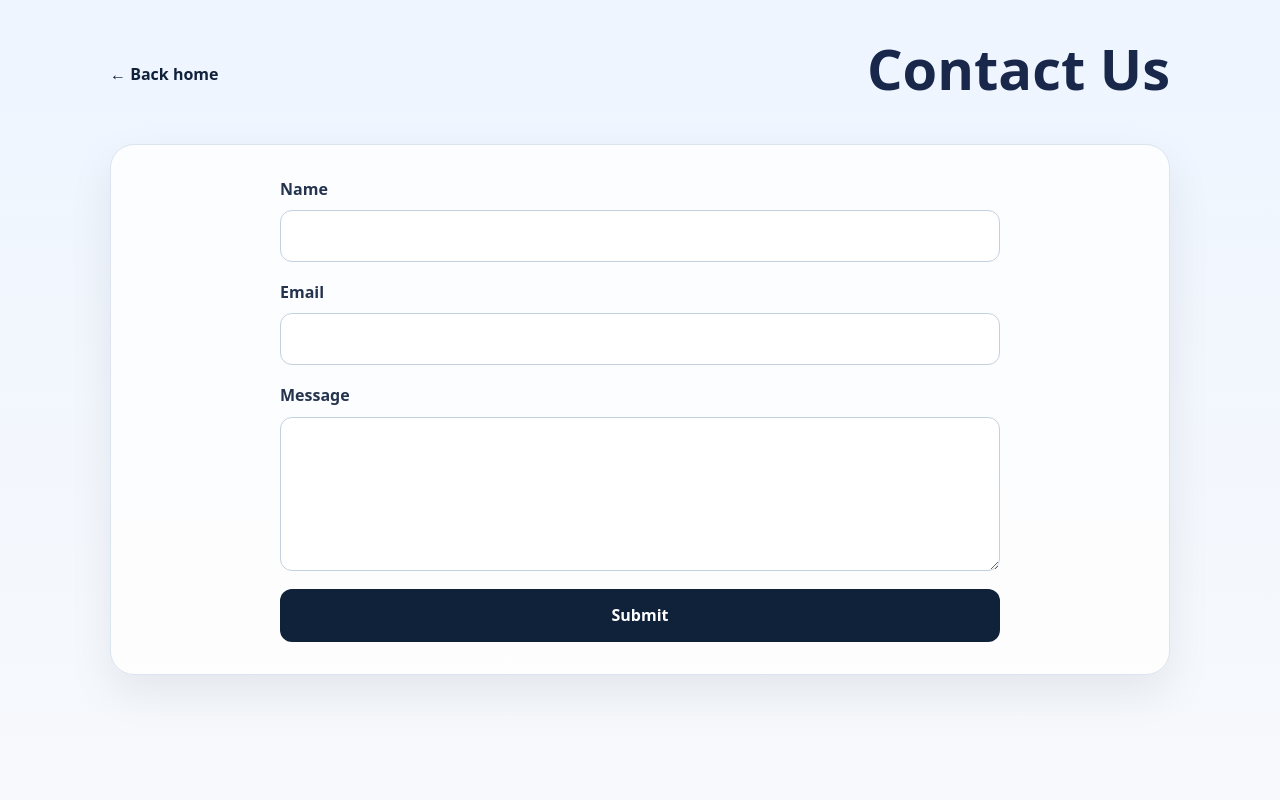
Scenario: ContactPage › handles a server validation error after the form passes local checks
In the field labelled "Name": (640, 236) [280,210,1000,262], type "Jamie Lee"
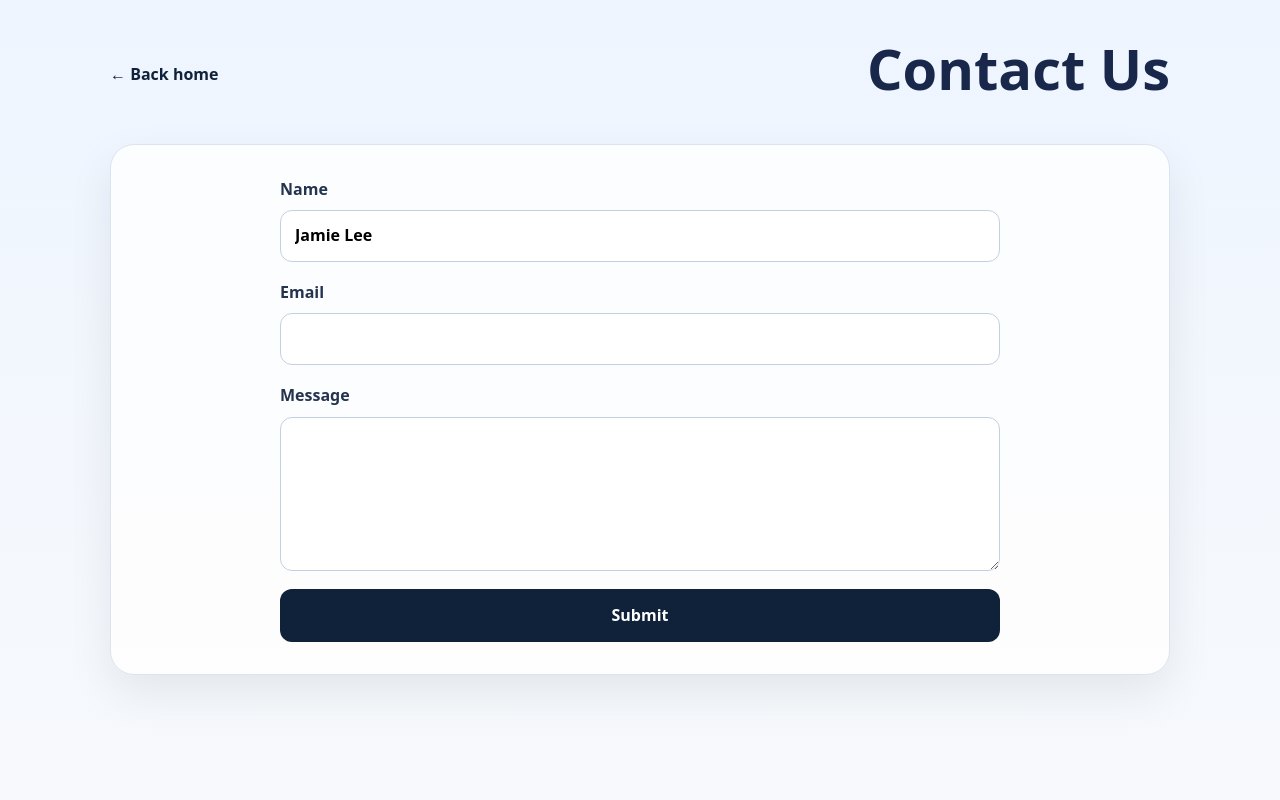
In the field labelled "Email": (640, 339) [280,313,1000,365], type "jamie@example.com"
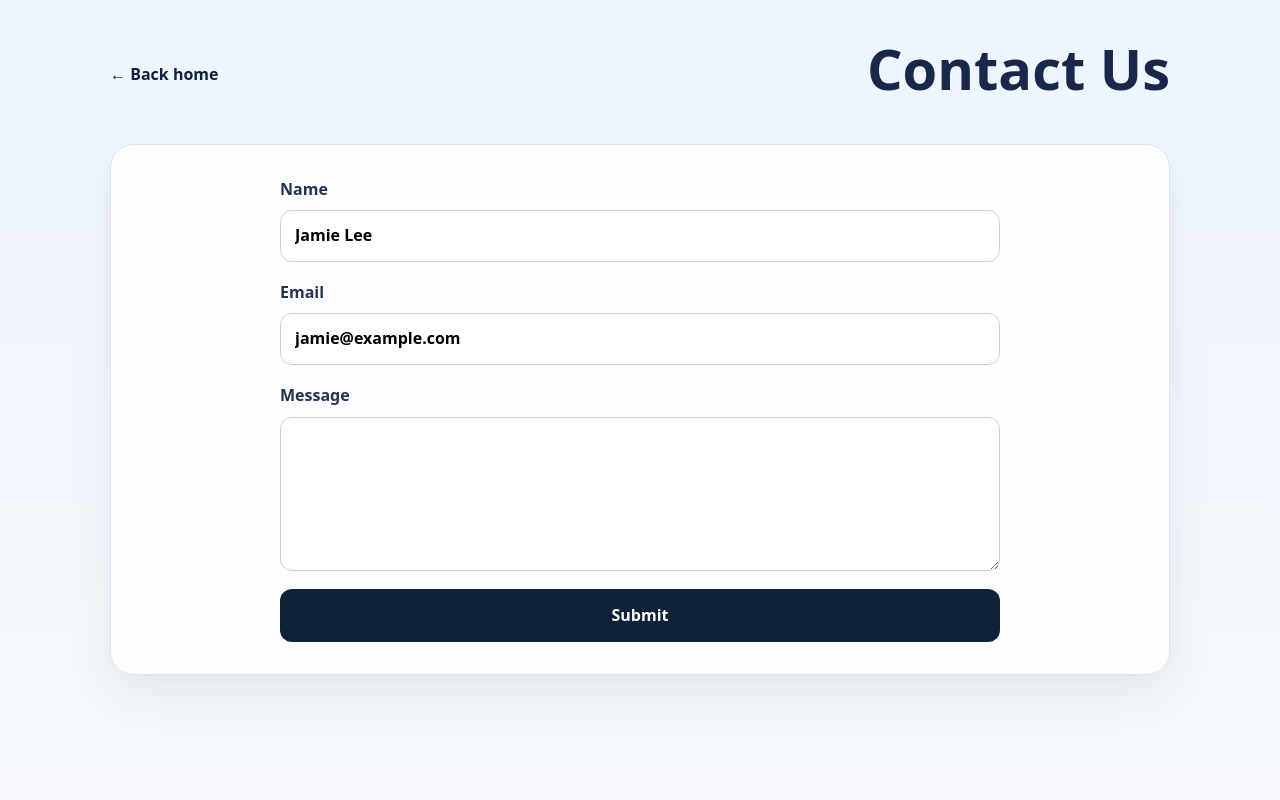
In the text box labelled "Message": (640, 494) [280,417,1000,571], type "I want to learn more."
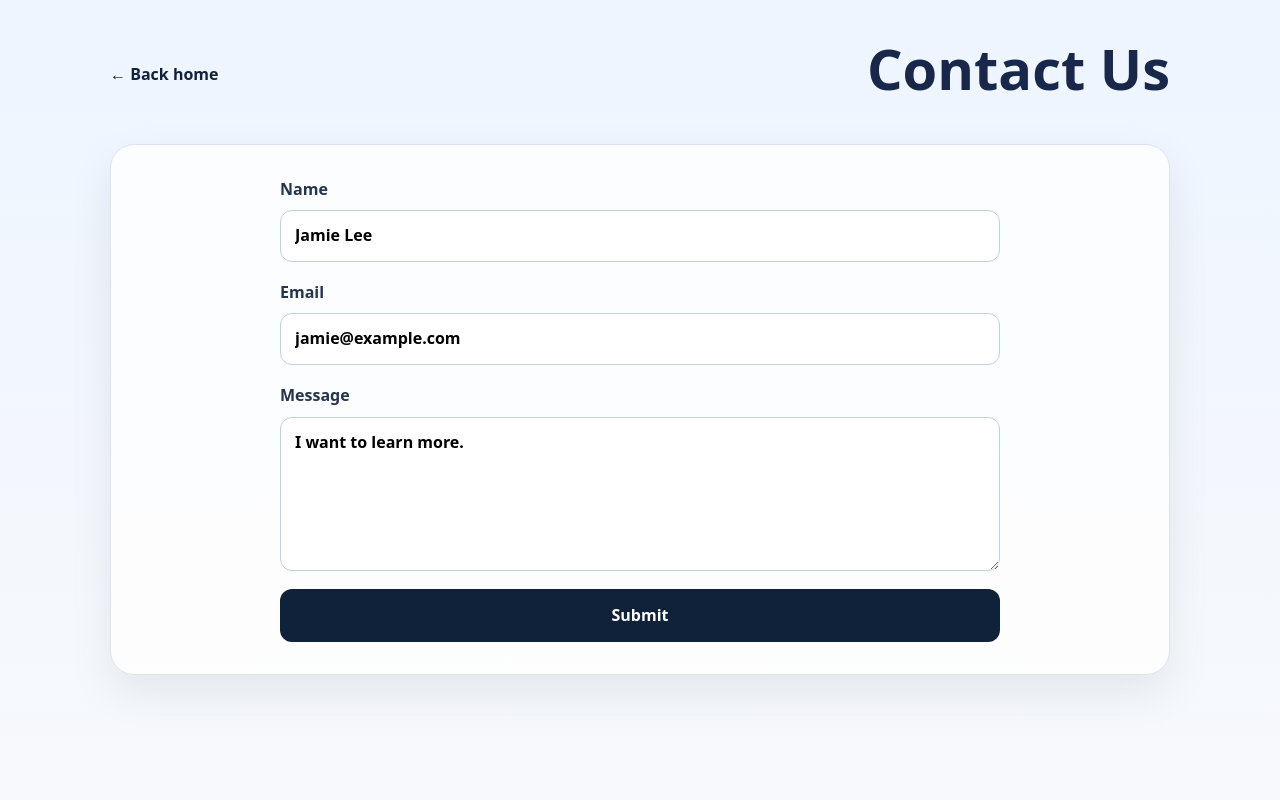
Click the button "Submit": click(640, 615) [280,588,1000,642]
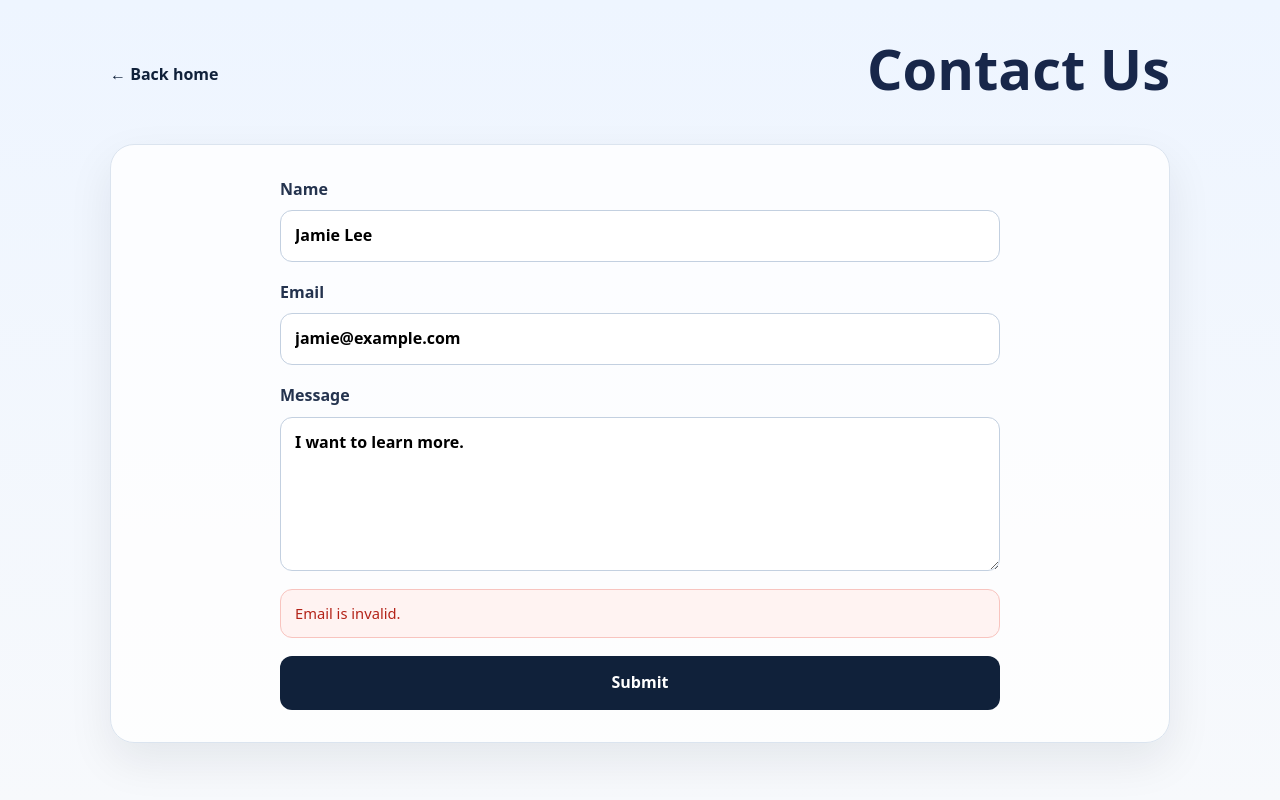
Expected: the text "Email is invalid." is shown, [295,602,400,622]
